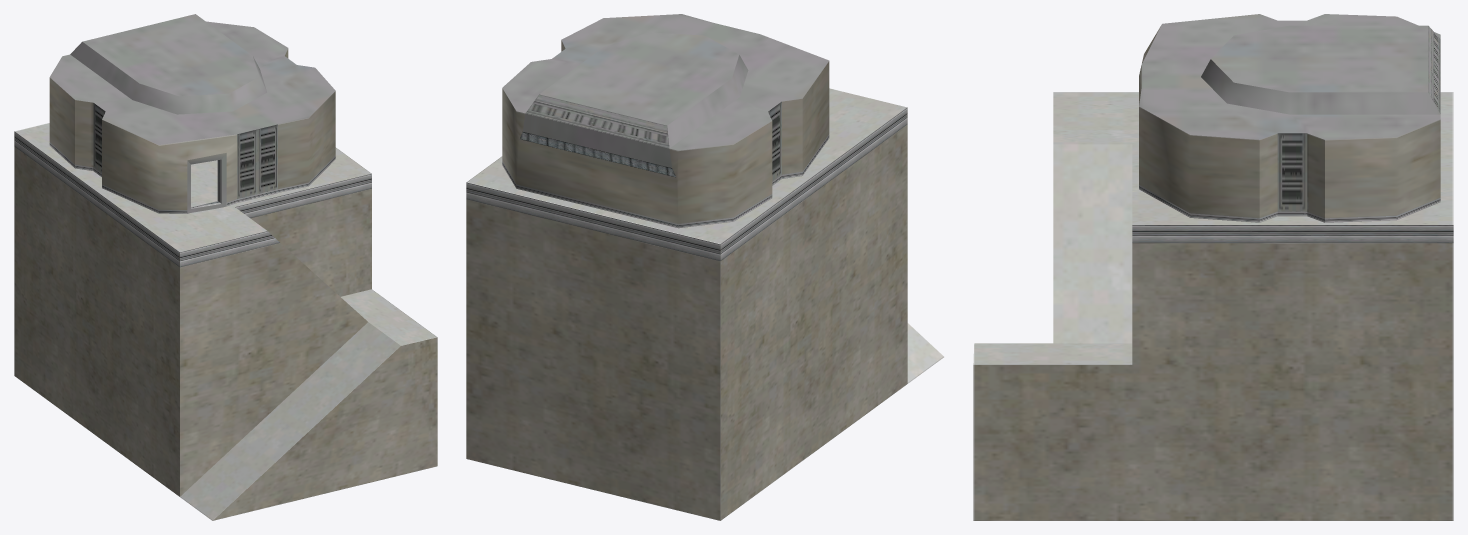
Rendered from ply_all_house_sm_s02_fp2_r0_mesh_l2.fbx.
3 renders of one model, left to right at view 1: azimuth 30°, elevation 25°; view 2: azimuth 150°, elevation 25°; view 3: azimuth 270°, elevation 25°, orthographic. The views are drawn at different scales.
Visible parts, largest first — view 1: mesh_node; view 2: mesh_node; view 3: mesh_node.
Part boxes in pixels (bbox=[...]): mesh_node: bbox=[14, 14, 437, 520]; mesh_node: bbox=[466, 14, 943, 520]; mesh_node: bbox=[973, 14, 1453, 520].
Size of the model in its own units: 15.87 by 22.12 by 24.27.
